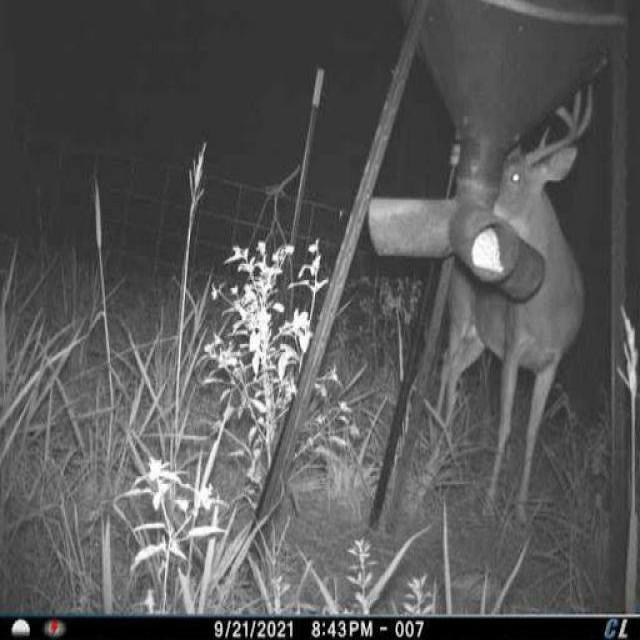deer: (394, 90, 596, 526)
